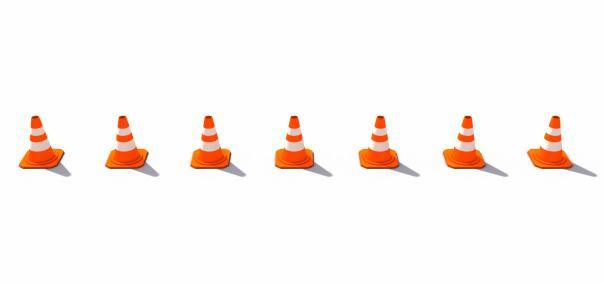Cone: (104, 115, 152, 169), (18, 115, 63, 170), (527, 116, 574, 168), (444, 115, 486, 168), (274, 115, 315, 168), (360, 116, 399, 169), (190, 116, 229, 167)
